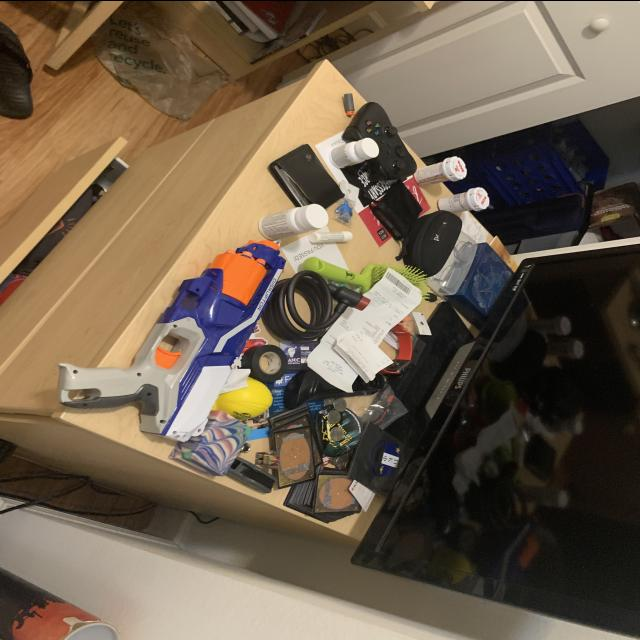nerf-maverik: (34, 233, 314, 454)
